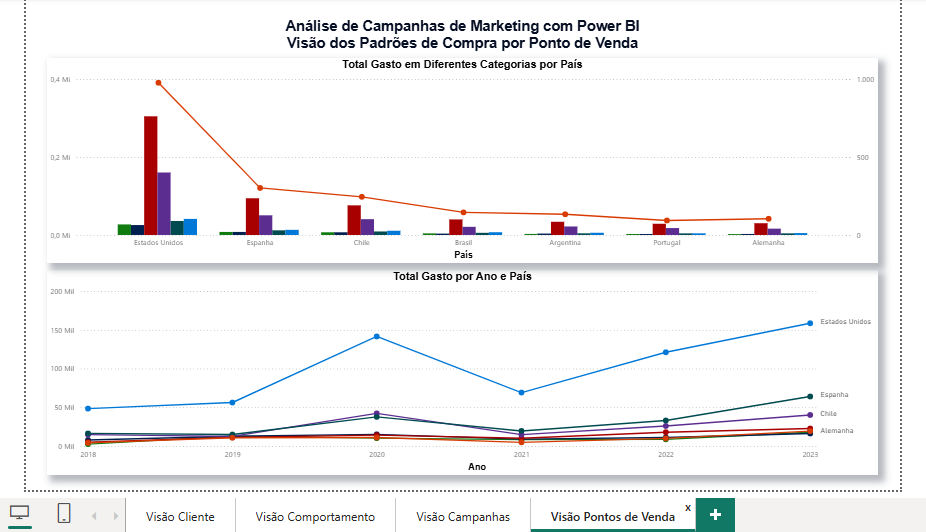

The dashboard page shown, as its layout file describes it:
{"tool":"powerbi","page":{"name":"Visão Pontos de Venda","canvas":[1280,720],"ordinal":3},"visuals":[{"type":"textbox","box":[336.6,24.9,604.4,125.9],"z":0},{"type":"lineClusteredColumnComboChart","title":"Total Gasto em Diferentes Categorias por País","fields":{"Category":["DadosMarketing.Pais"],"Y":["Sum(DadosMarketing.Gasto com Alimentos)","Sum(DadosMarketing.Gasto com Brinquedos)","Sum(DadosMarketing.Gasto com Eletronicos)","Sum(DadosMarketing.Gasto com Moveis)","Sum(DadosMarketing.Gasto com Utilidades)","Sum(DadosMarketing.Gasto com Vestuario)"],"Y2":["CountNonNull(DadosMarketing.ID)"]},"box":[30.7,87.8,1216.1,300],"z":1},{"type":"lineChart","title":"Total Gasto por Ano e País","fields":{"Y":["DadosMarketing.TotalGasto"],"Category":["DadosMarketing.Data Cadastro.Variation.Hierarquia de datas.Ano"],"Series":["DadosMarketing.Pais"]},"box":[30.7,398,1216.1,300],"z":2}]}

Visuals, with their boxes on the page's 1280x720 design canvas (x1, y1, x2, y2). These are canvas units, not pixel positions in the 926x532 screenshot, which may show the page scaled, cropped or inside an application window:
textbox: (left=337, top=25, right=941, bottom=151)
"Total Gasto em Diferentes Categorias por País" lineClusteredColumnComboChart: (left=31, top=88, right=1247, bottom=388)
"Total Gasto por Ano e País" lineChart: (left=31, top=398, right=1247, bottom=698)
